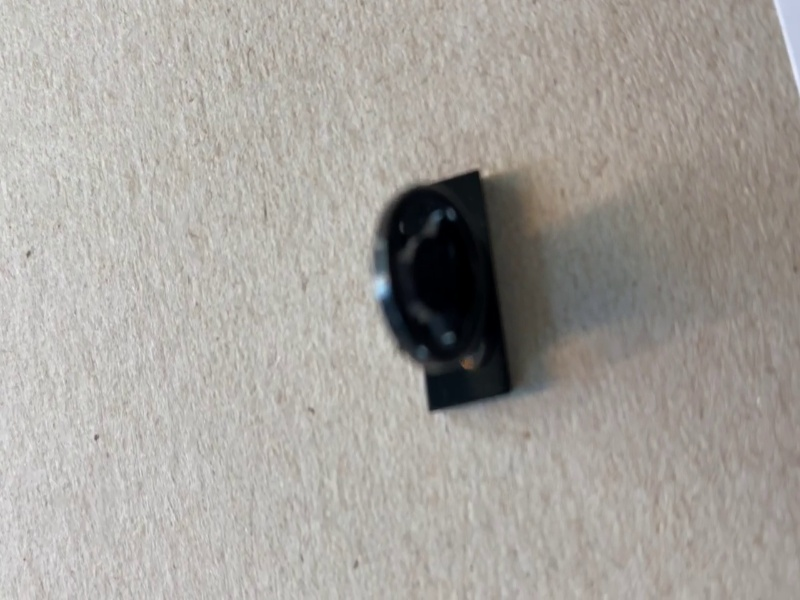steering wheel: (370, 169, 519, 413)
